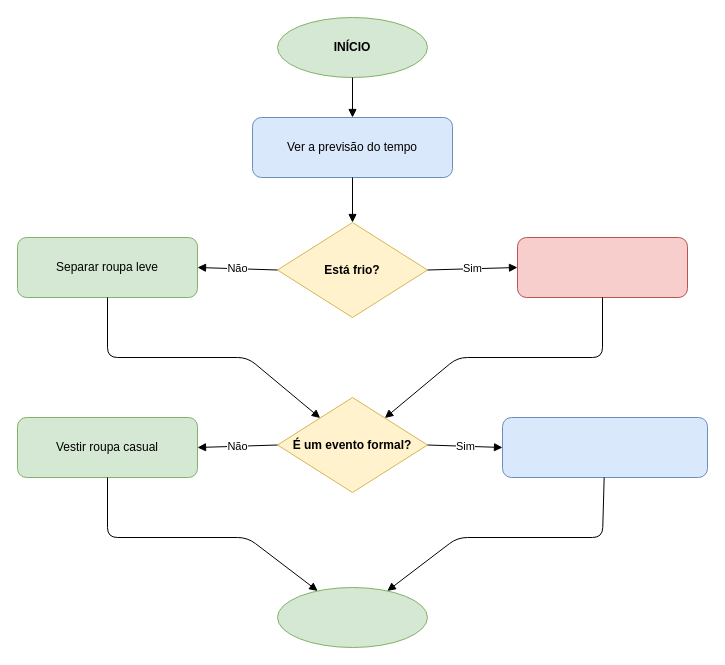
This 725x665 diagram has some shape labels left out. The shapes that lost their labels are listed below. From the top down, each one's centre as x and y in pixels, then its label:
the point at 602,267: Separar casaco
the point at 605,447: Vestir camisa social e calça
the point at 352,617: FIM
